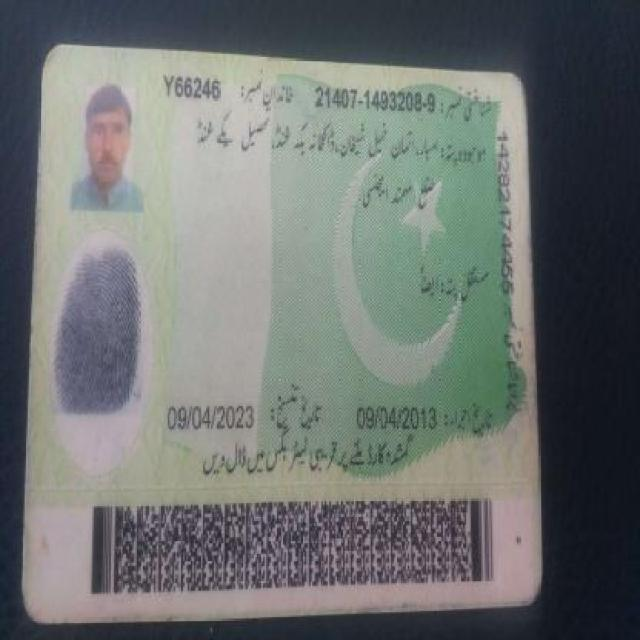Back: (26, 43, 537, 594)
